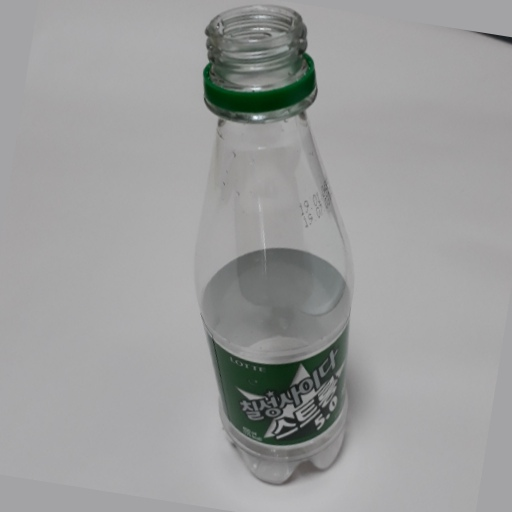Plastic_0: (194, 5, 350, 490)
